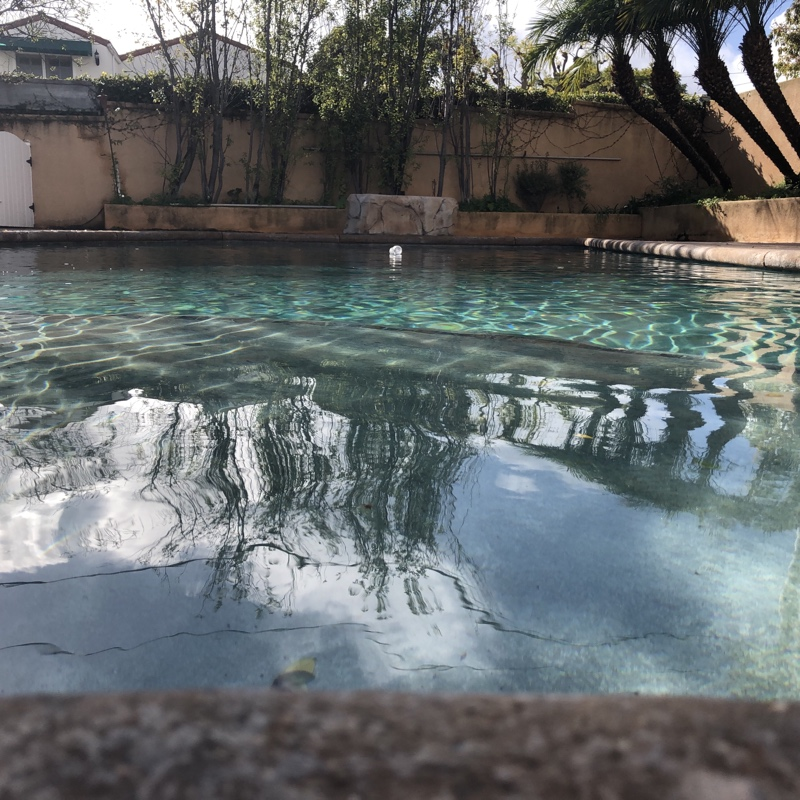Plastic Bottle: (385, 242, 403, 256)
